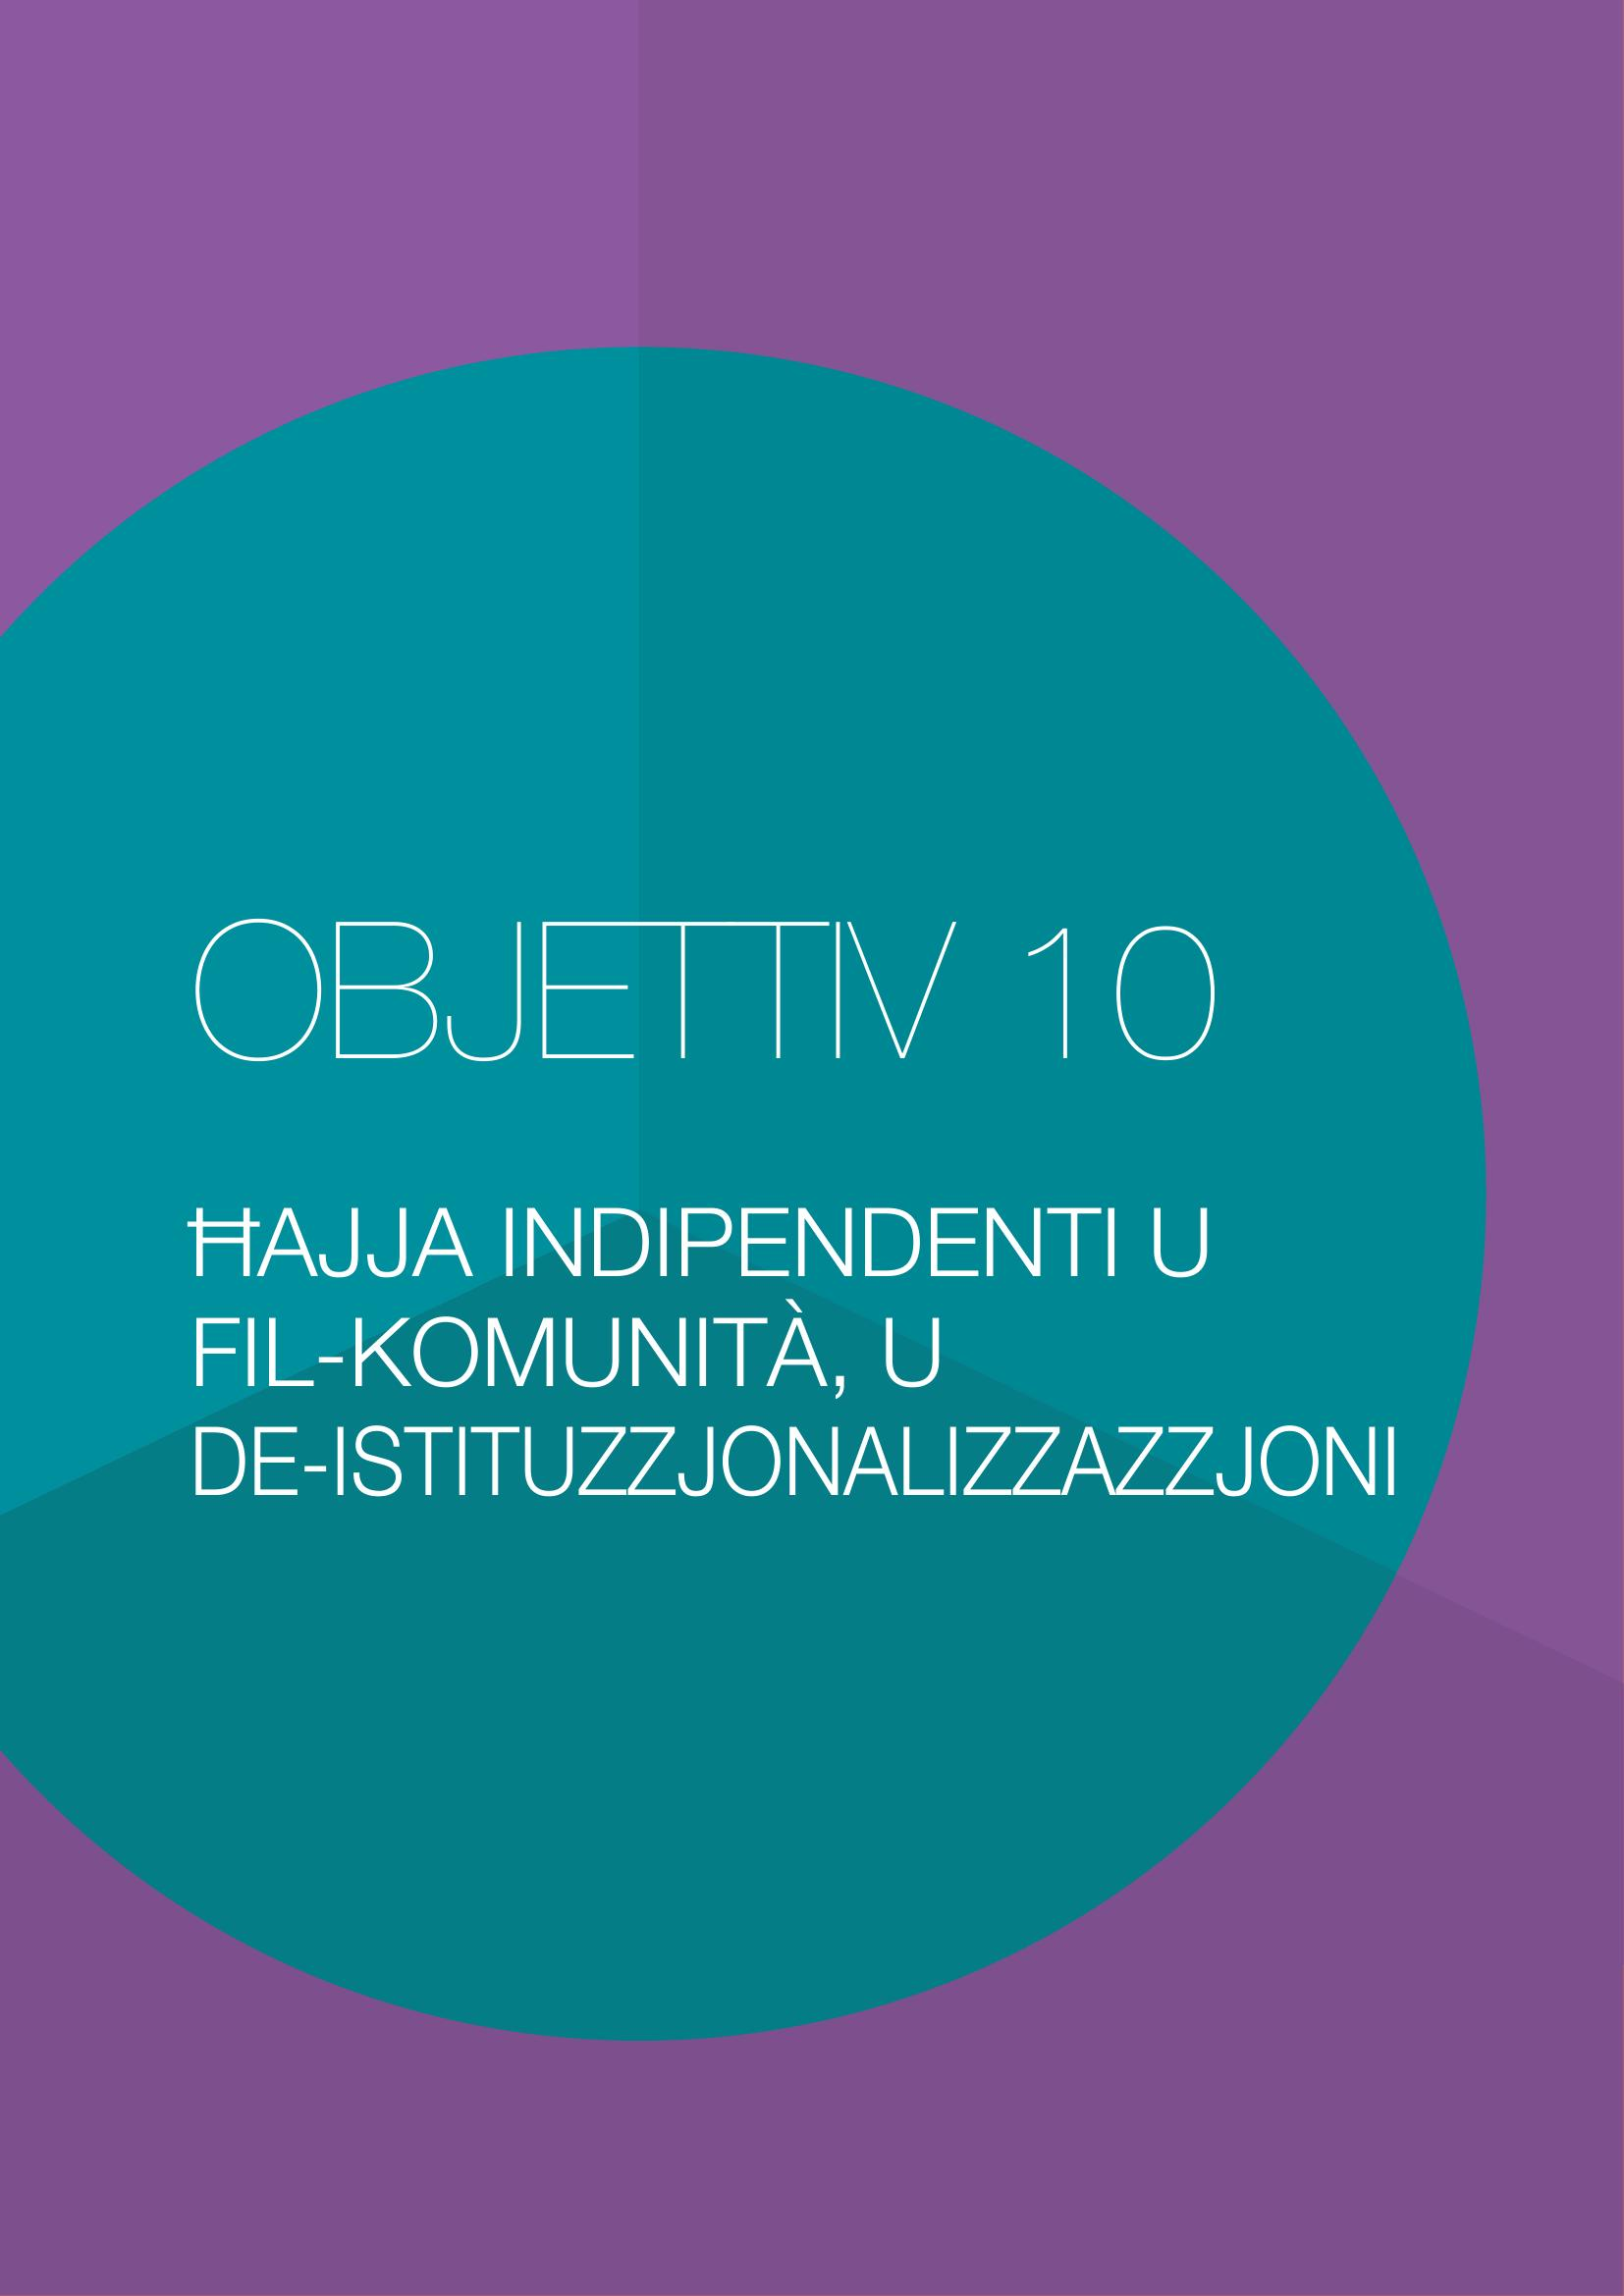text: (123, 884, 1445, 1588)
